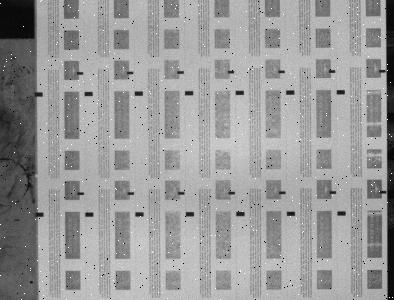backgroundclutter: (30, 280, 33, 284)
qblock: (287, 211, 296, 216), (35, 212, 44, 217), (236, 90, 244, 95), (135, 91, 143, 96), (135, 212, 144, 216), (337, 90, 346, 94), (286, 90, 295, 94), (185, 91, 194, 95), (338, 211, 346, 215), (186, 212, 194, 216), (85, 212, 93, 216), (237, 212, 245, 216), (35, 92, 43, 96), (85, 92, 93, 96)
smallqblock: (229, 191, 236, 195), (228, 70, 235, 74), (77, 71, 83, 75), (381, 190, 387, 194), (178, 192, 185, 195), (177, 71, 184, 74), (127, 192, 134, 195), (279, 191, 286, 194), (127, 71, 134, 74), (279, 70, 286, 73), (330, 191, 337, 194), (77, 192, 84, 195), (329, 70, 336, 73), (380, 70, 386, 73)
